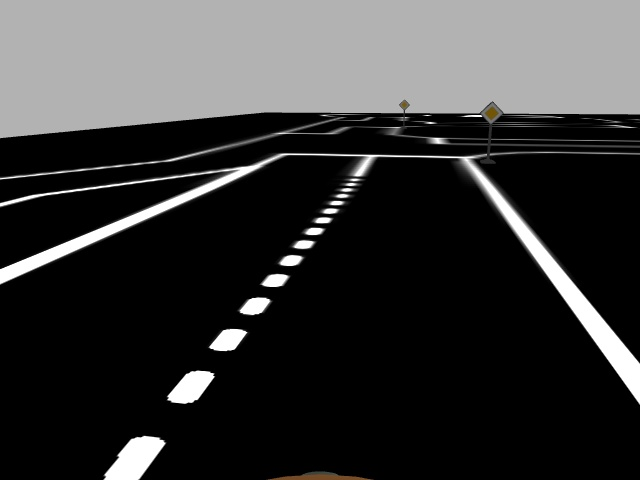priority: (479, 101, 503, 124)
